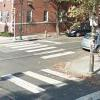Crosswalk: (11, 38, 68, 92)
